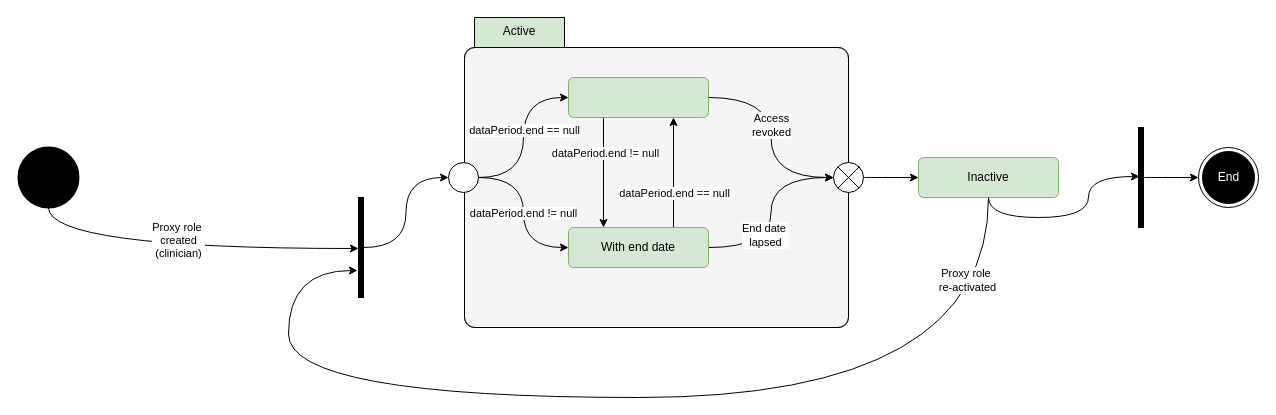
Some shapes in this 1276 by 415 pixel diagram are drawn without their labels. The centre of each missing label's shape, as x and y in pixels:
"Start" goes at (48,177).
"Without end date" goes at (638,97).
